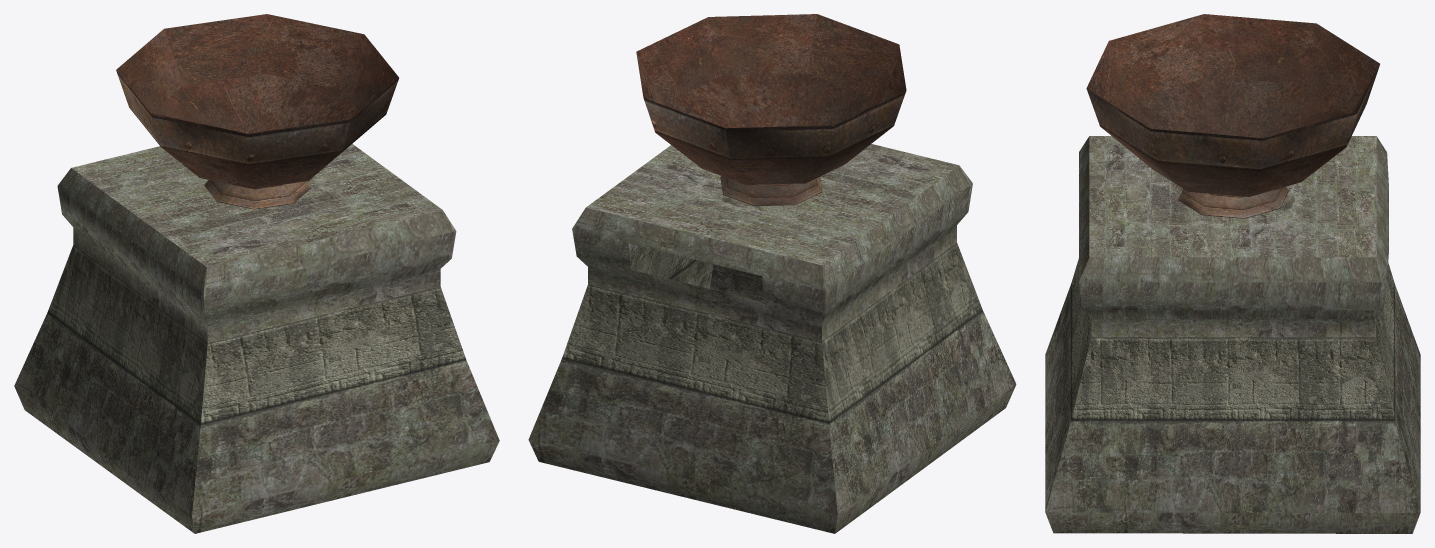
Rendered from RockstandFirebowl_lod.fbx.
3 views of the same model, side by side, from view 1: azimuth 30°, elevation 25°; view 2: azimuth 150°, elevation 25°; view 3: azimuth 270°, elevation 25° (orthographic). The views are drawn at different scales.
Parts seen in each view (by area): view 1: Mesh Object; view 2: Mesh Object; view 3: Mesh Object.
Part boxes in pixels (x1=…): Mesh Object: x1=14, y1=14, x2=499, y2=533; Mesh Object: x1=528, y1=14, x2=1016, y2=533; Mesh Object: x1=1045, y1=14, x2=1420, y2=533.
Bounding box in the file's own units: 1.86 × 2.09 × 1.86.
